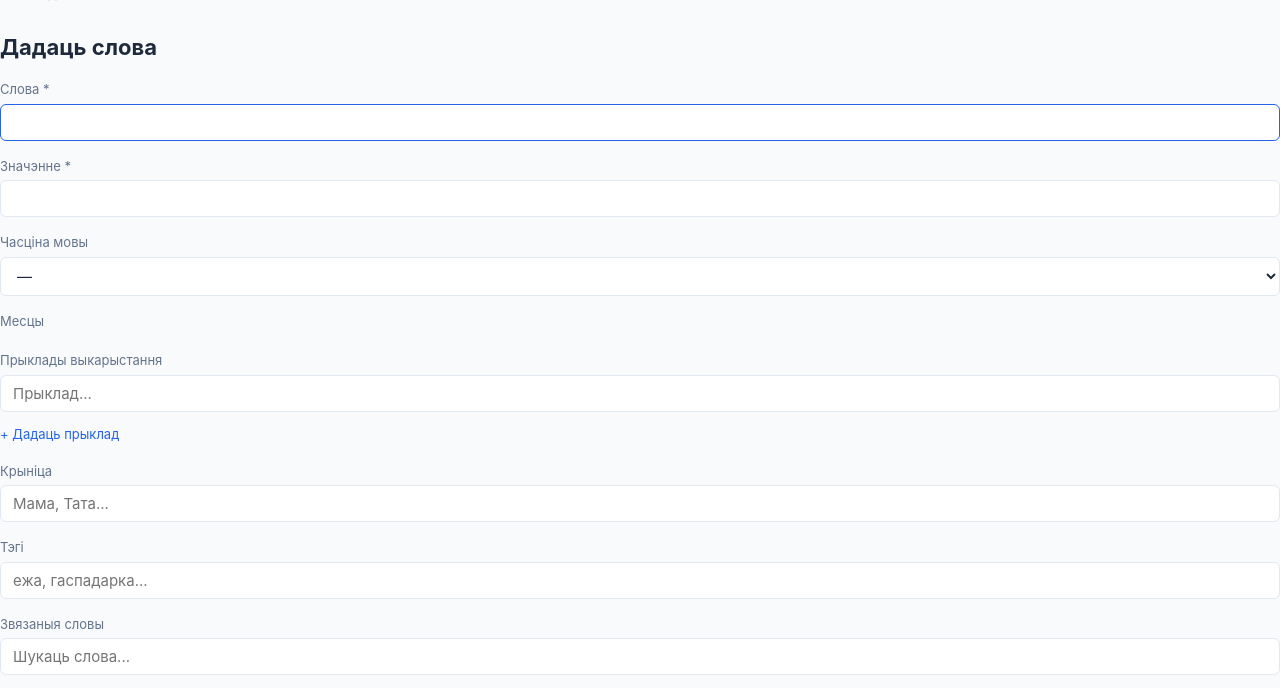
Scenario: WordFormPage validation › shows error when only word is filled
Step 1. Type "бульба" into the field labelled "Слова *" → (640, 122), box [0, 104, 1279, 140]
(page scrolled)
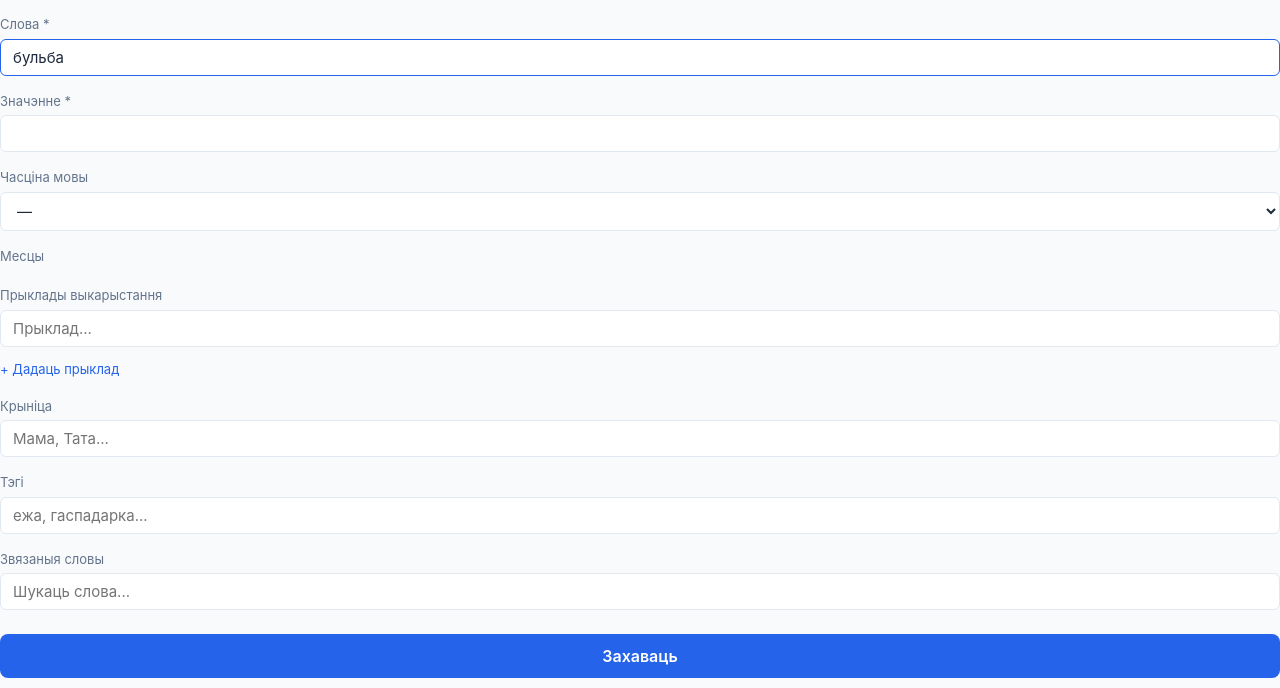
Step 2. Click the button "Захаваць" → click(640, 656), box [0, 634, 1279, 678]
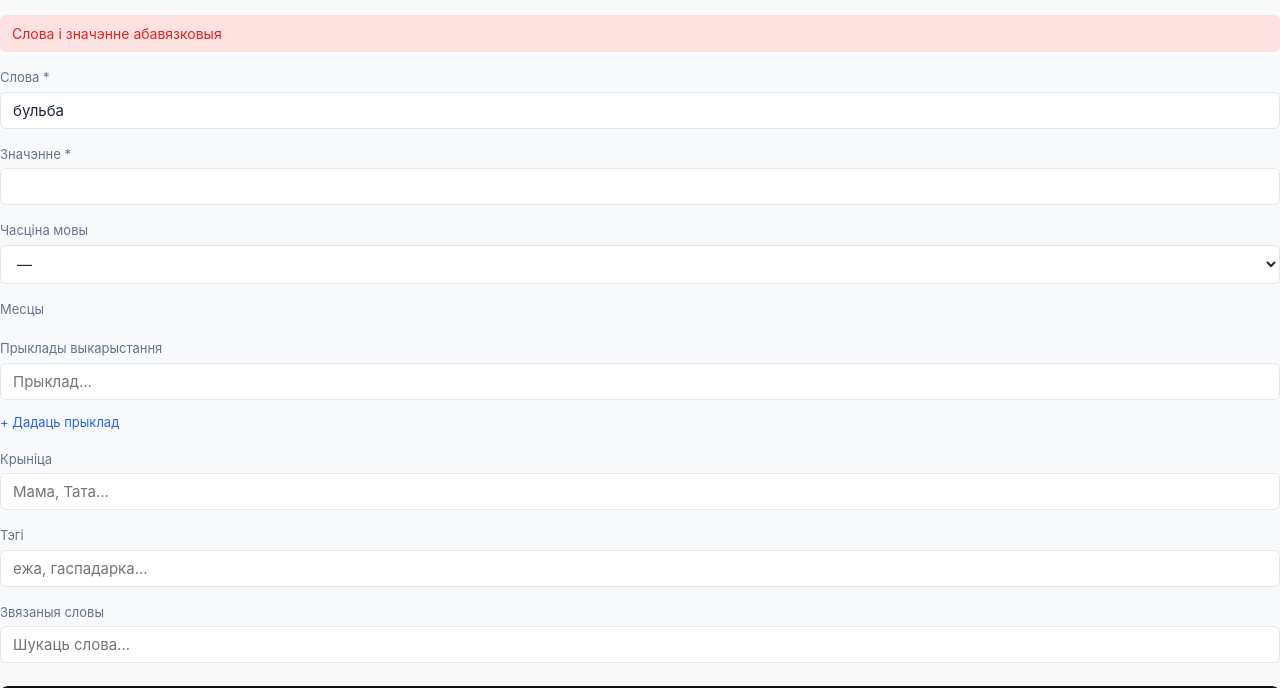
Check: the text "Слова і значэнне абавязковыя" is shown, box [0, 15, 1279, 52]
